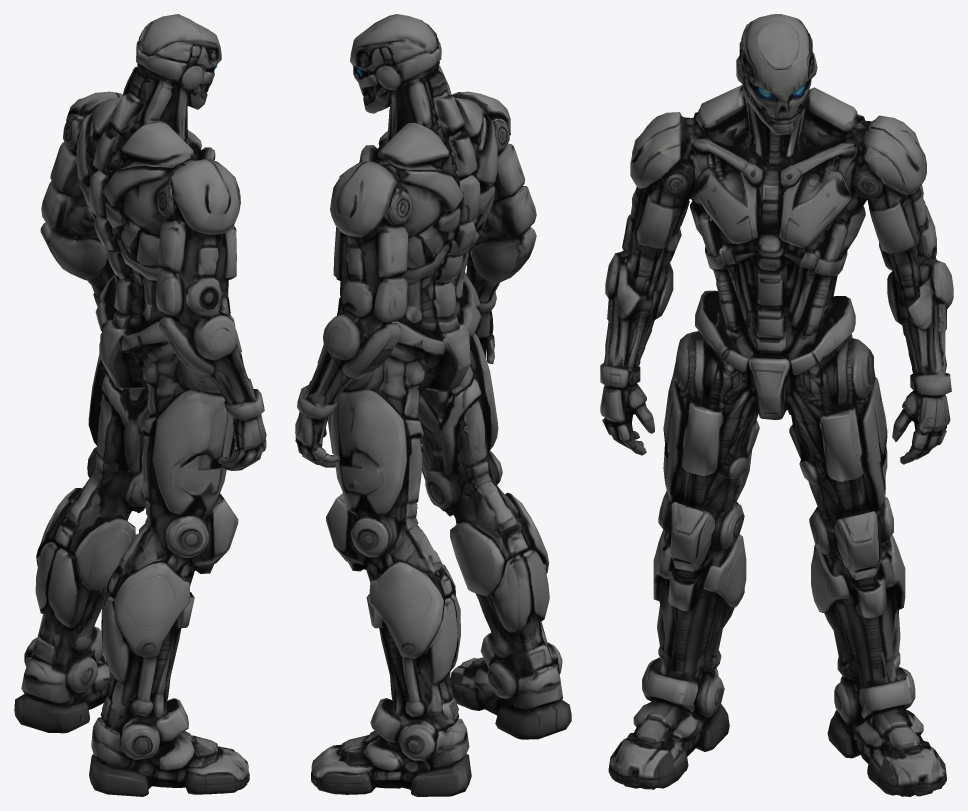
Rendered from haruki.glb.
3 renders of one model, left to right at view 1: azimuth 30°, elevation 25°; view 2: azimuth 150°, elevation 25°; view 3: azimuth 270°, elevation 25°, orthographic. The views are drawn at different scales.
Parts seen in each view (by area): view 1: tripo_node_25c16d0f-8b76-4427-8db6-f4a2395d59c8; view 2: tripo_node_25c16d0f-8b76-4427-8db6-f4a2395d59c8; view 3: tripo_node_25c16d0f-8b76-4427-8db6-f4a2395d59c8.
Part boxes in pixels (left/top/right/bottom): tripo_node_25c16d0f-8b76-4427-8db6-f4a2395d59c8: left=14, top=14, right=266, bottom=796; tripo_node_25c16d0f-8b76-4427-8db6-f4a2395d59c8: left=295, top=14, right=571, bottom=796; tripo_node_25c16d0f-8b76-4427-8db6-f4a2395d59c8: left=600, top=14, right=953, bottom=796.
Bounding box in the file's own units: 0.2598 × 0.998 × 0.416.
1 material, 1 textured.
